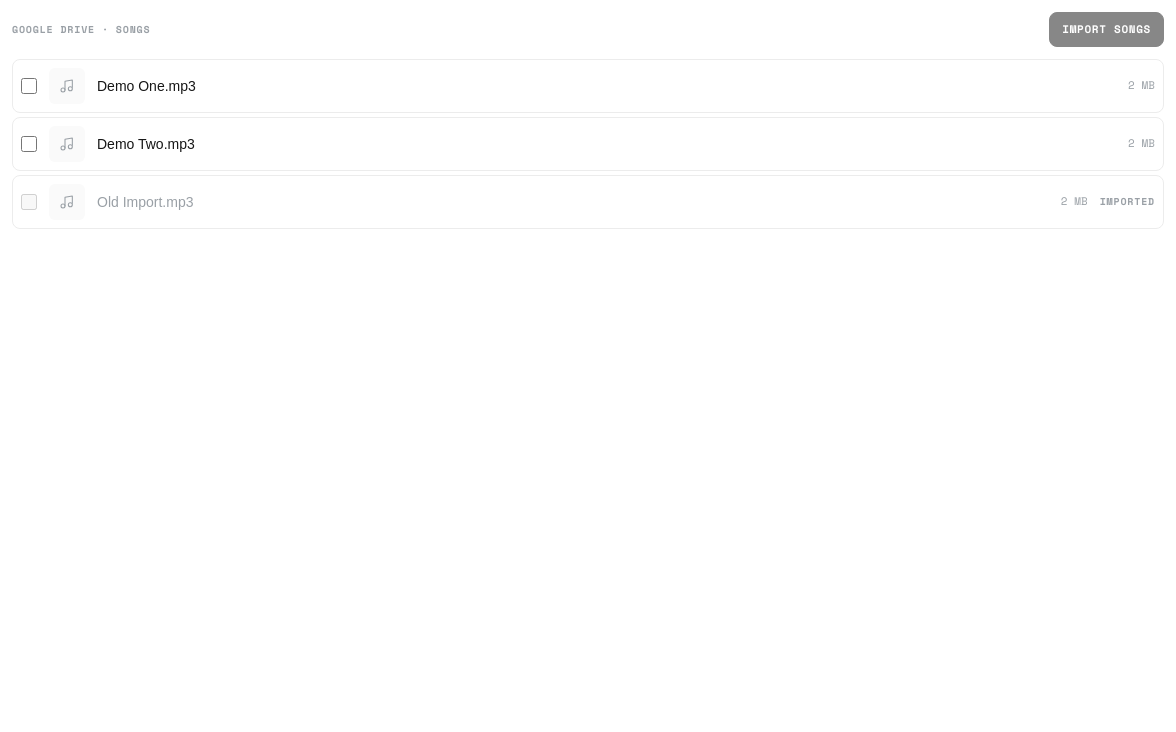
Test: DriveBrowser › keeps a per-file failure inline while the rest succeed
The image size is (1176, 732).
Click the checkbox named "Demo One.mp3" at coordinates (29, 86), box [21, 78, 37, 94]
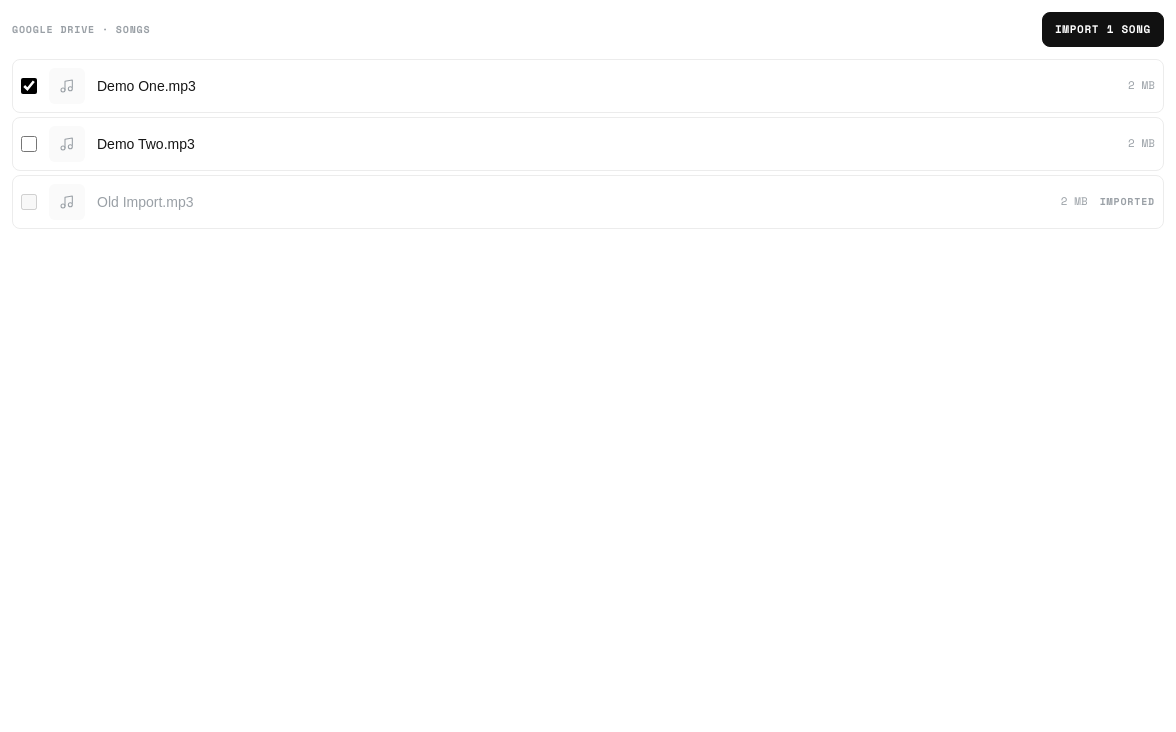
Click the checkbox named "Demo Two.mp3" at coordinates (29, 144), box [21, 136, 37, 152]
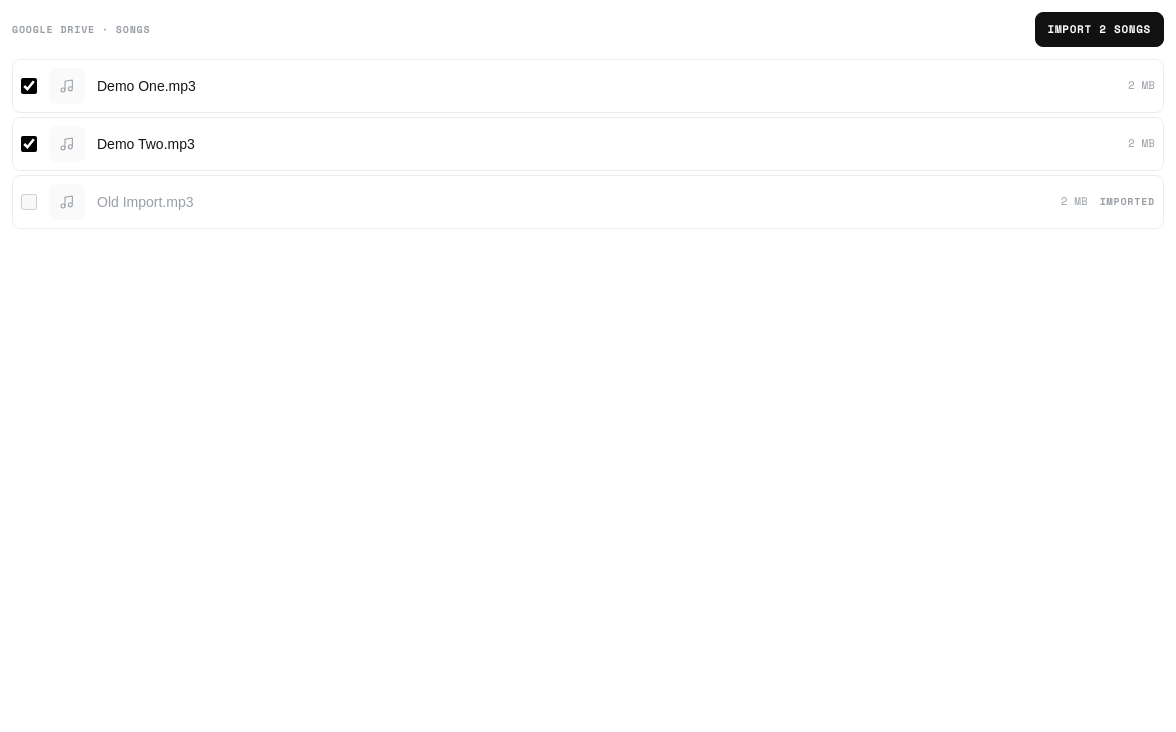
Click the button "Import 2 songs" at coordinates (1099, 29), box [1034, 12, 1164, 46]
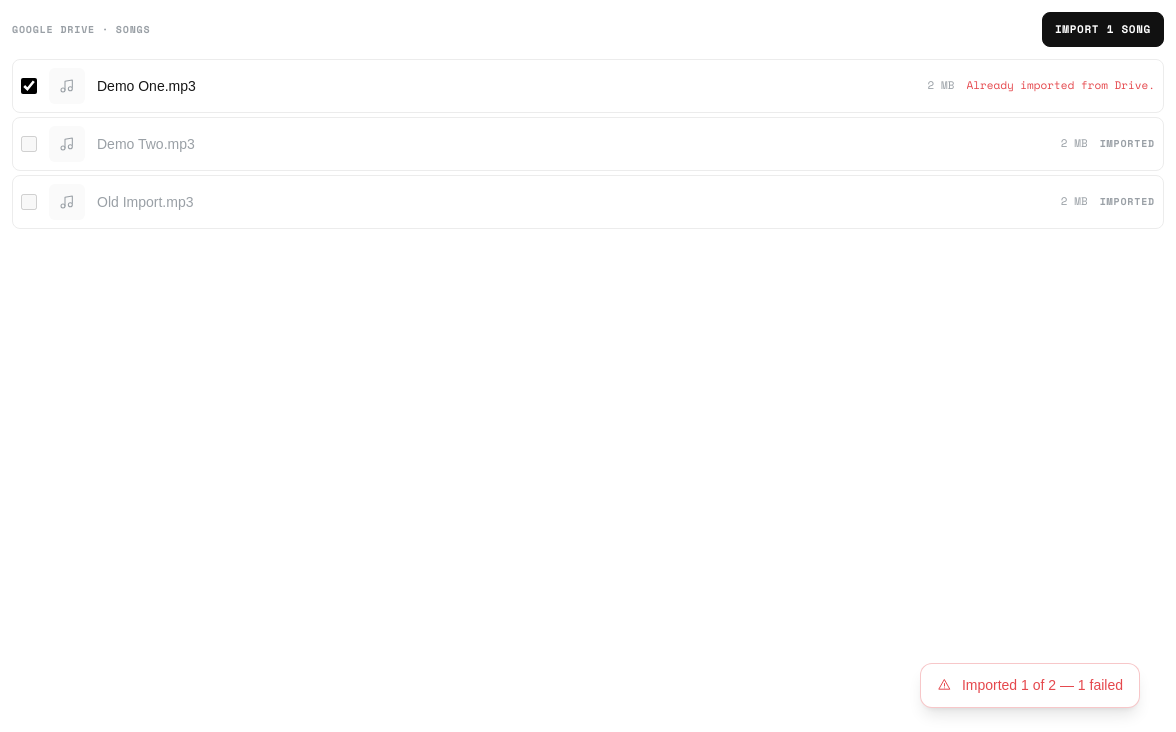
Now the text "Imported 1 of 2 — 1 failed" is shown, box [962, 676, 1123, 695]
Now the text "Already imported from Drive." is shown, box [966, 77, 1155, 94]
